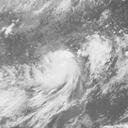cyclone: (34, 48, 81, 93)
